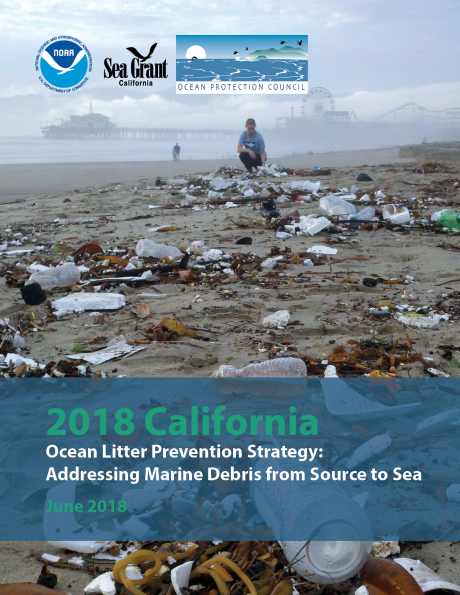litter: (200, 346, 340, 387), (49, 281, 163, 331), (15, 246, 99, 291), (65, 331, 156, 369), (376, 192, 460, 233), (122, 235, 186, 271), (310, 190, 376, 223), (293, 237, 359, 268), (199, 235, 239, 272)
